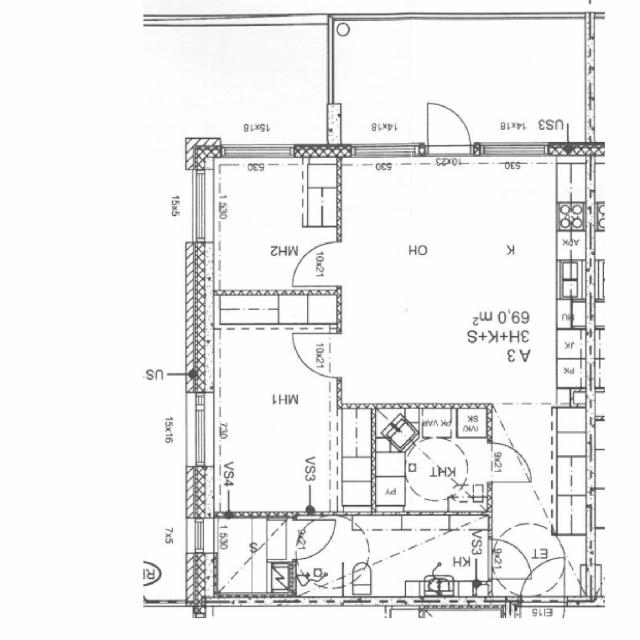door: (428, 99, 471, 157), (520, 554, 564, 607), (292, 242, 342, 286), (292, 334, 342, 378), (487, 540, 533, 580), (290, 521, 336, 560), (487, 444, 531, 482)
